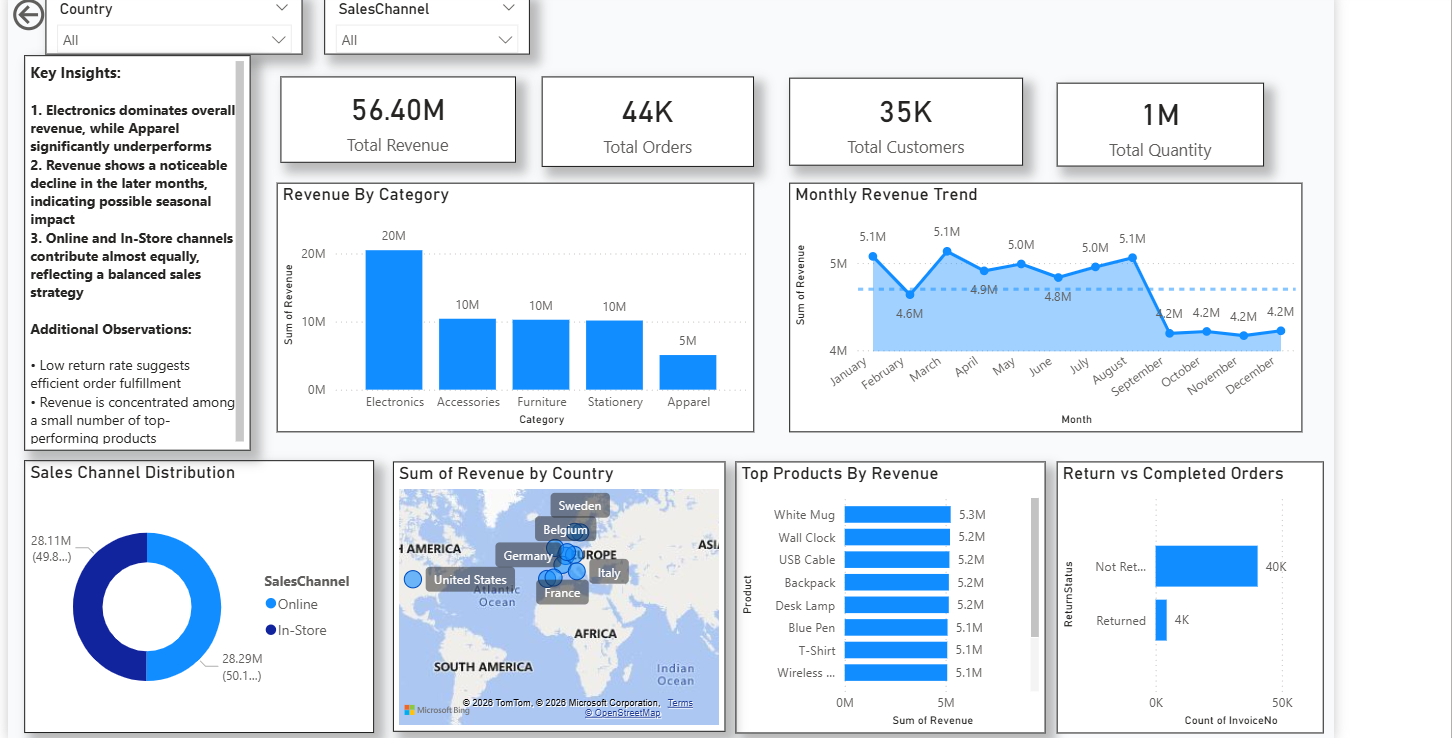

What the dashboard file says about the page in this screenshot:
{"tool":"powerbi","page":{"name":"Page 1","canvas":[1280,720],"ordinal":0},"visuals":[{"type":"card","fields":{"Values":["multi_channel_retail_sales_cleaned csv.Total Revenue"]},"box":[263,79.6,226.8,83.2],"z":0},{"type":"card","fields":{"Values":["multi_channel_retail_sales_cleaned csv.Total Customers"]},"box":[754,80.8,225.6,84.5],"z":1000},{"type":"card","fields":{"Values":["multi_channel_retail_sales_cleaned csv.Total Orders"]},"box":[515.2,79.6,205.1,86.9],"z":2000},{"type":"card","fields":{"Values":["multi_channel_retail_sales_cleaned csv.Total Quantity"]},"box":[1012.2,85.7,200.3,80.8],"z":3000},{"type":"slicer","fields":{"Values":["multi_channel_retail_sales_cleaned csv.Country"]},"box":[36.7,0,248.2,58.7],"z":4000},{"type":"slicer","fields":{"Values":["multi_channel_retail_sales_cleaned csv.SalesChannel"]},"box":[305.7,0,198.1,58.7],"z":5000},{"type":"clusteredColumnChart","title":"Revenue By Category","fields":{"Category":["multi_channel_retail_sales_cleaned csv.Category"],"Y":["Sum(multi_channel_retail_sales_cleaned csv.Revenue)"]},"box":[259.2,182.2,461,240.9],"z":6000},{"type":"donutChart","title":"Sales Channel Distribution","fields":{"Category":["multi_channel_retail_sales_cleaned csv.SalesChannel"],"Y":["Sum(multi_channel_retail_sales_cleaned csv.Revenue)"]},"box":[15.7,450,337.8,263],"z":7000},{"type":"lineChart","title":"Monthly Revenue Trend","fields":{"Y":["Sum(multi_channel_retail_sales_cleaned csv.Revenue)"],"Category":["multi_channel_retail_sales_cleaned csv.InvoiceDate.Variation.Date Hierarchy.Month"]},"box":[754.5,182.2,495.2,240.9],"z":8000},{"type":"clusteredBarChart","title":"Top Products By Revenue ","fields":{"Category":["multi_channel_retail_sales_cleaned csv.Product"],"Y":["Sum(multi_channel_retail_sales_cleaned csv.Revenue)"]},"box":[702.6,451.5,299.1,262.1],"z":9000},{"type":"actionButton","box":[0,0,100,40],"z":10000},{"type":"map","fields":{"Category":["multi_channel_retail_sales_cleaned csv.Country"],"Size":["Sum(multi_channel_retail_sales_cleaned csv.Revenue)"]},"box":[371.6,451.2,320.9,260.6],"z":11000},{"type":"barChart","title":"Return vs Completed Orders","fields":{"Category":["multi_channel_retail_sales_cleaned csv.ReturnStatus"],"Y":["CountNonNull(multi_channel_retail_sales_cleaned csv.InvoiceNo)"]},"box":[1012.7,451.5,258,262.1],"z":12000},{"type":"textbox","box":[15.7,59.1,218.4,381.2],"z":13000}]}

Visuals, with their boxes in screenshot pixels (x1, y1, x2, y2):
card - multi_channel_retail_sales_cleaned csv.Total Revenue: rect(279, 72, 517, 159)
card - multi_channel_retail_sales_cleaned csv.Total Customers: rect(793, 73, 1029, 162)
card - multi_channel_retail_sales_cleaned csv.Total Orders: rect(543, 72, 758, 163)
card - multi_channel_retail_sales_cleaned csv.Total Quantity: rect(1064, 78, 1273, 163)
slicer - multi_channel_retail_sales_cleaned csv.Country: rect(42, 0, 302, 50)
slicer - multi_channel_retail_sales_cleaned csv.SalesChannel: rect(324, 0, 531, 50)
"Revenue By Category" clusteredColumnChart: rect(275, 179, 758, 432)
"Sales Channel Distribution" donutChart: rect(20, 460, 374, 735)
"Monthly Revenue Trend" lineChart: rect(794, 179, 1312, 432)
"Top Products By Revenue " clusteredBarChart: rect(739, 461, 1053, 736)
actionButton: rect(4, 0, 108, 31)
map - multi_channel_retail_sales_cleaned csv.Country x Sum(multi_channel_retail_sales_cleaned csv.Revenue): rect(393, 461, 729, 734)
"Return vs Completed Orders" barChart: rect(1064, 461, 1334, 736)
textbox: rect(20, 51, 249, 450)
